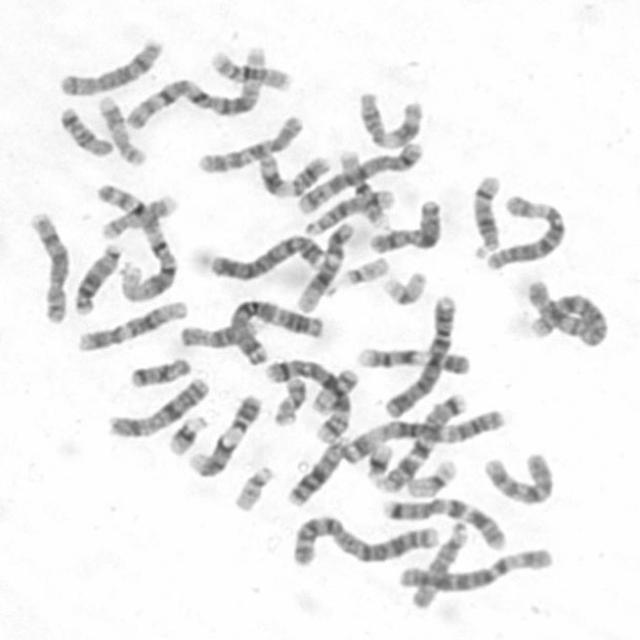A1: (119, 39, 269, 130), (90, 176, 180, 304)
A2: (284, 508, 442, 568), (520, 272, 610, 349)
A3: (332, 402, 509, 466), (223, 291, 327, 366)
B4: (379, 288, 460, 420), (204, 227, 328, 282)
B5: (290, 137, 425, 216), (258, 351, 353, 445)
C10: (191, 106, 306, 174), (477, 444, 556, 508)
C11: (351, 84, 424, 150), (251, 144, 331, 200)
C12: (70, 293, 190, 353), (291, 214, 356, 313)
C6: (392, 539, 556, 596), (480, 187, 570, 271)
C7: (371, 387, 470, 494), (375, 491, 509, 552)
C8: (52, 31, 165, 98), (22, 203, 72, 326)
C9: (182, 387, 264, 478), (350, 339, 473, 377)
D13: (281, 430, 350, 508), (66, 235, 125, 316)
D14: (299, 182, 396, 238), (464, 168, 505, 259)
D15: (405, 514, 471, 610), (173, 314, 265, 350)
E16: (333, 143, 389, 228), (203, 44, 294, 93)
E17: (96, 192, 184, 245), (91, 89, 148, 168)
E18: (52, 100, 115, 158), (123, 350, 192, 389)
F19: (400, 452, 460, 498), (376, 264, 429, 307)
F20: (305, 362, 360, 417), (266, 370, 309, 427)
G21: (162, 408, 210, 457), (362, 437, 396, 482)
G22: (226, 459, 276, 514), (333, 249, 391, 288)
X: (101, 370, 212, 440), (364, 192, 444, 255)
